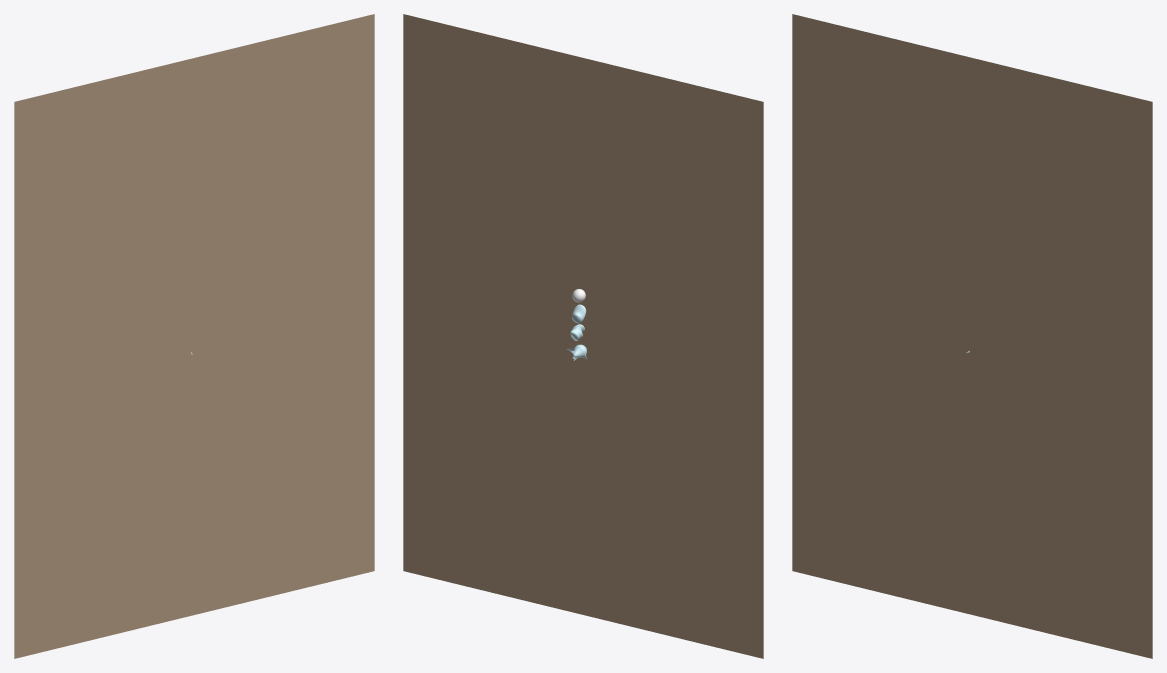
The model's file is simple_019_BlendShapes_01-Animated.dae.
3 views of the same model, side by side, from view 1: azimuth 30°, elevation 25°; view 2: azimuth 150°, elevation 25°; view 3: azimuth 330°, elevation 25° (orthographic).
Visible parts, largest first — view 1: pPlane1; view 2: pPlane1; view 3: pPlane1.
Boxes of the visible parts, <box> form: pPlane1: <box>14,14,374,658</box>; pPlane1: <box>403,14,763,658</box>; pPlane1: <box>792,14,1152,658</box>.
Size of the model in its own units: 60.64 by 4.13 by 89.62.
